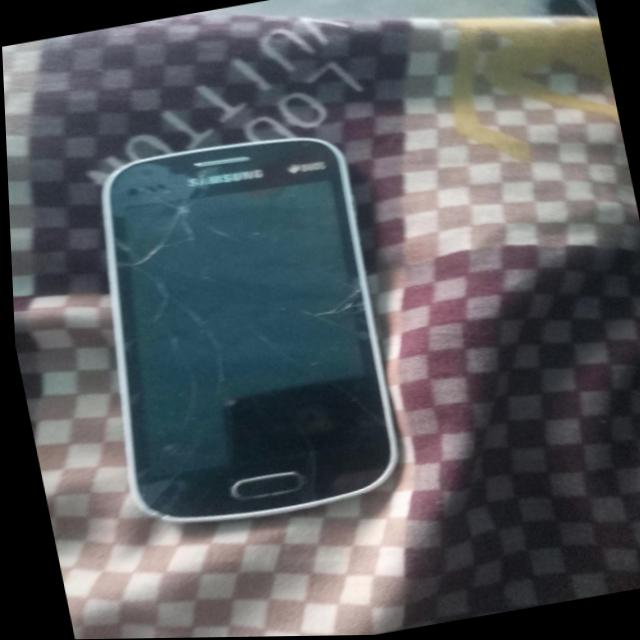Smartphone: (23, 99, 424, 550)
